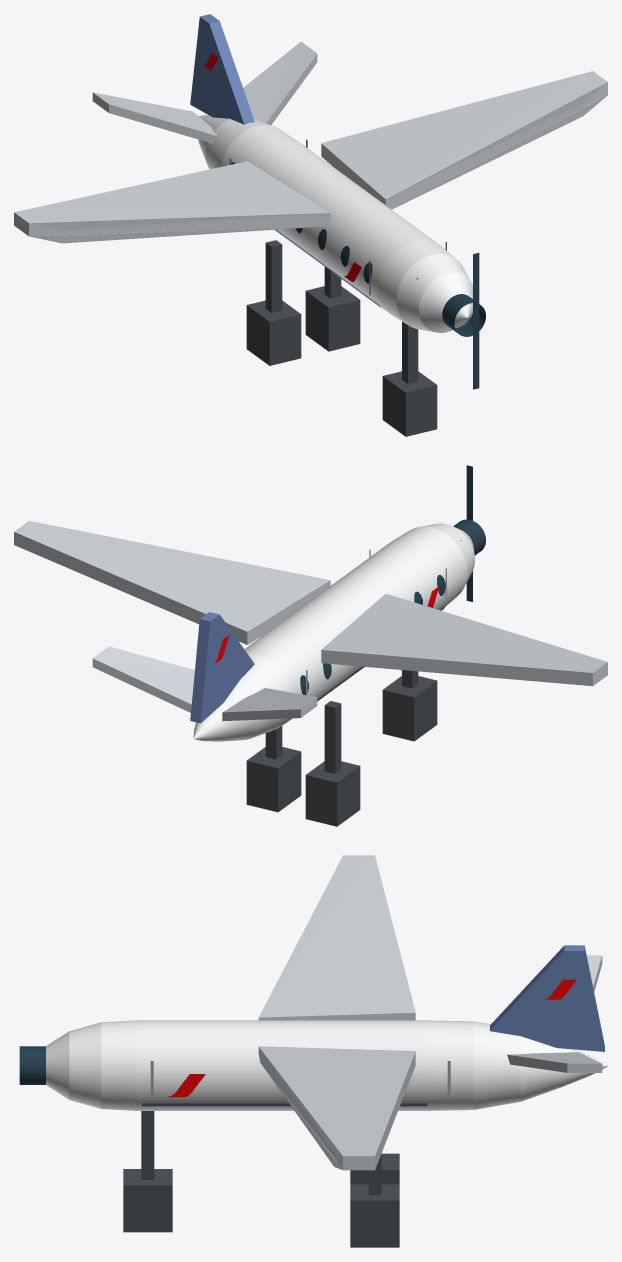
Rendered from light-AFR-v3.gltf.
3 renders of one model, top to bottom at view 1: azimuth 30°, elevation 25°; view 2: azimuth 150°, elevation 25°; view 3: azimuth 270°, elevation 25°, orthographic. The views are drawn at different scales.
Visible parts, largest first — view 1: object 1, Gear; view 2: object 1, Gear; view 3: object 1, Gear.
Part boxes in pixels (x1,y1,x2,y2): object 1: [14, 14, 607, 389]; Gear: [246, 240, 437, 436]; object 1: [14, 465, 607, 741]; Gear: [246, 670, 437, 826]; object 1: [19, 855, 607, 1170]; Gear: [123, 1111, 399, 1247].
Size of the model in its own units: 11 by 4.71 by 9.18.
Materials: 8 (1 with a texture image).
